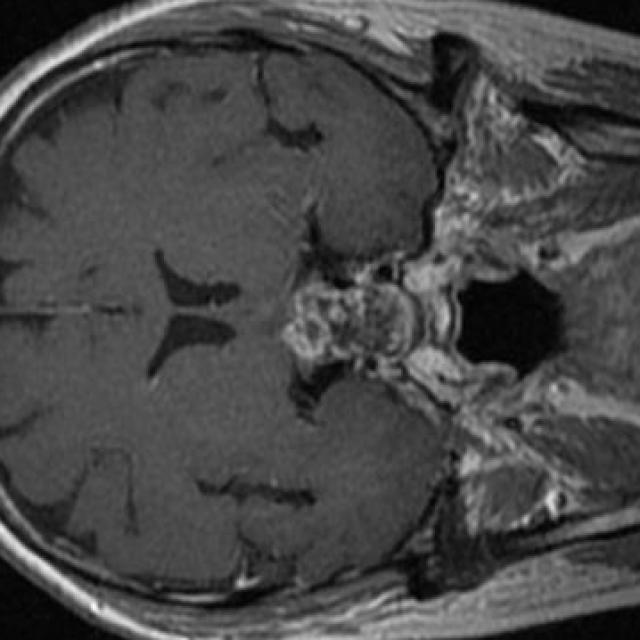pituitary: (280, 287, 414, 365)
